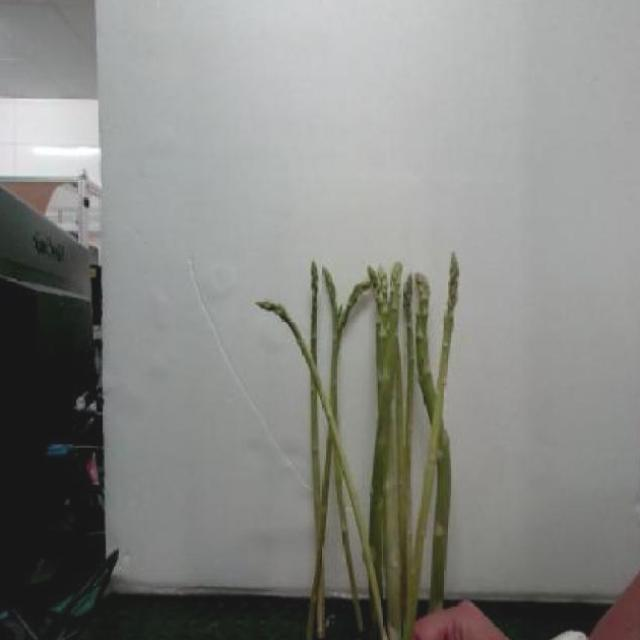aspargus: (251, 294, 391, 640), (399, 245, 464, 639)
